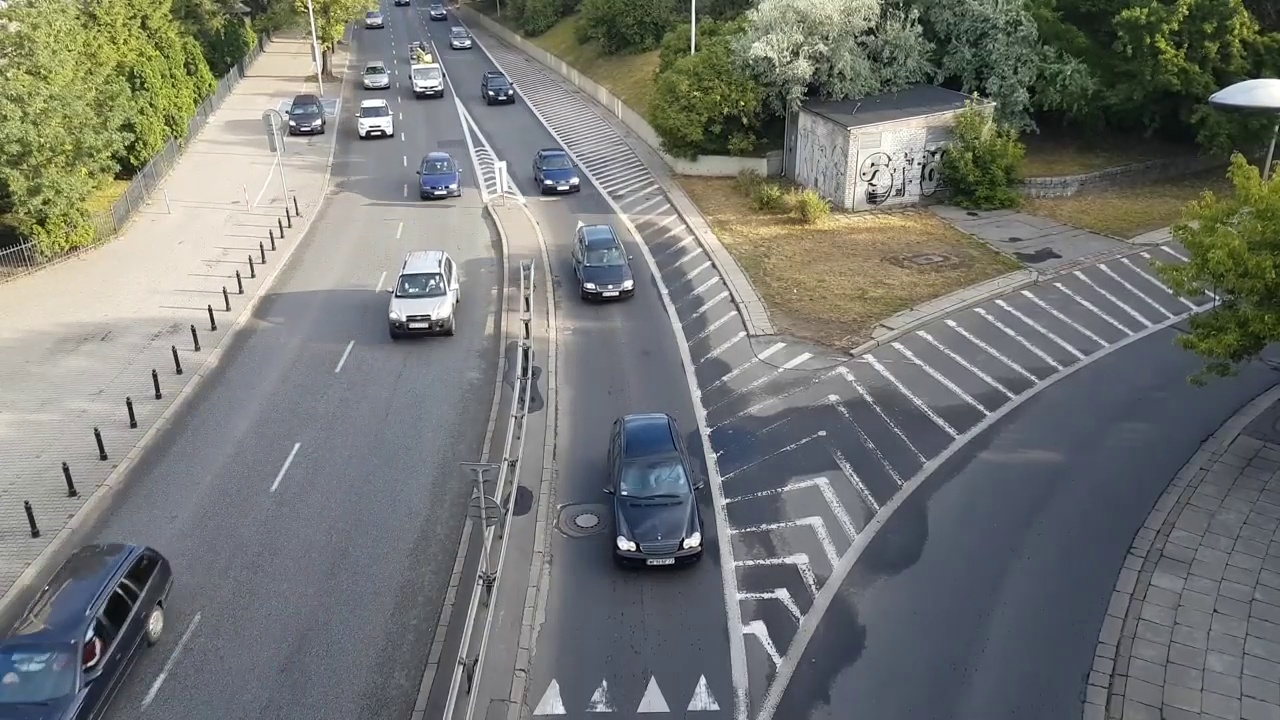car: (4, 538, 197, 718), (610, 411, 708, 577), (388, 251, 457, 344), (574, 221, 633, 302), (535, 143, 581, 198), (409, 40, 445, 101), (420, 150, 463, 200), (289, 92, 326, 140), (359, 98, 393, 139), (483, 69, 516, 106), (365, 62, 392, 90), (448, 24, 472, 51)
